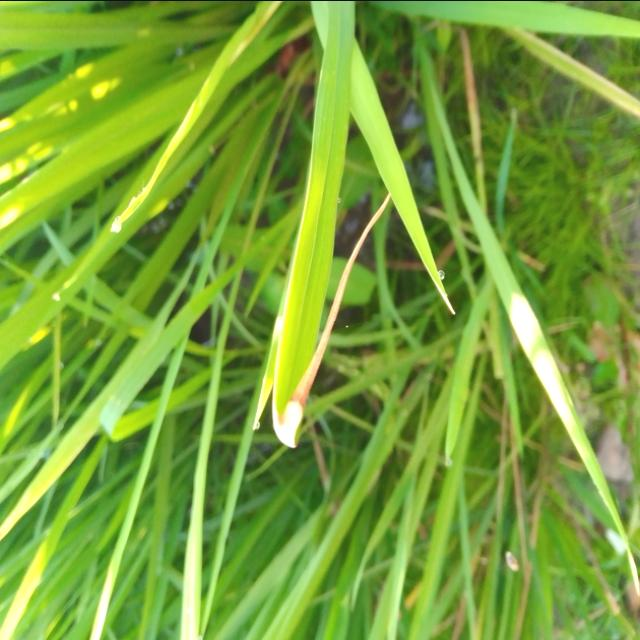Brown spot: (269, 177, 412, 463)
